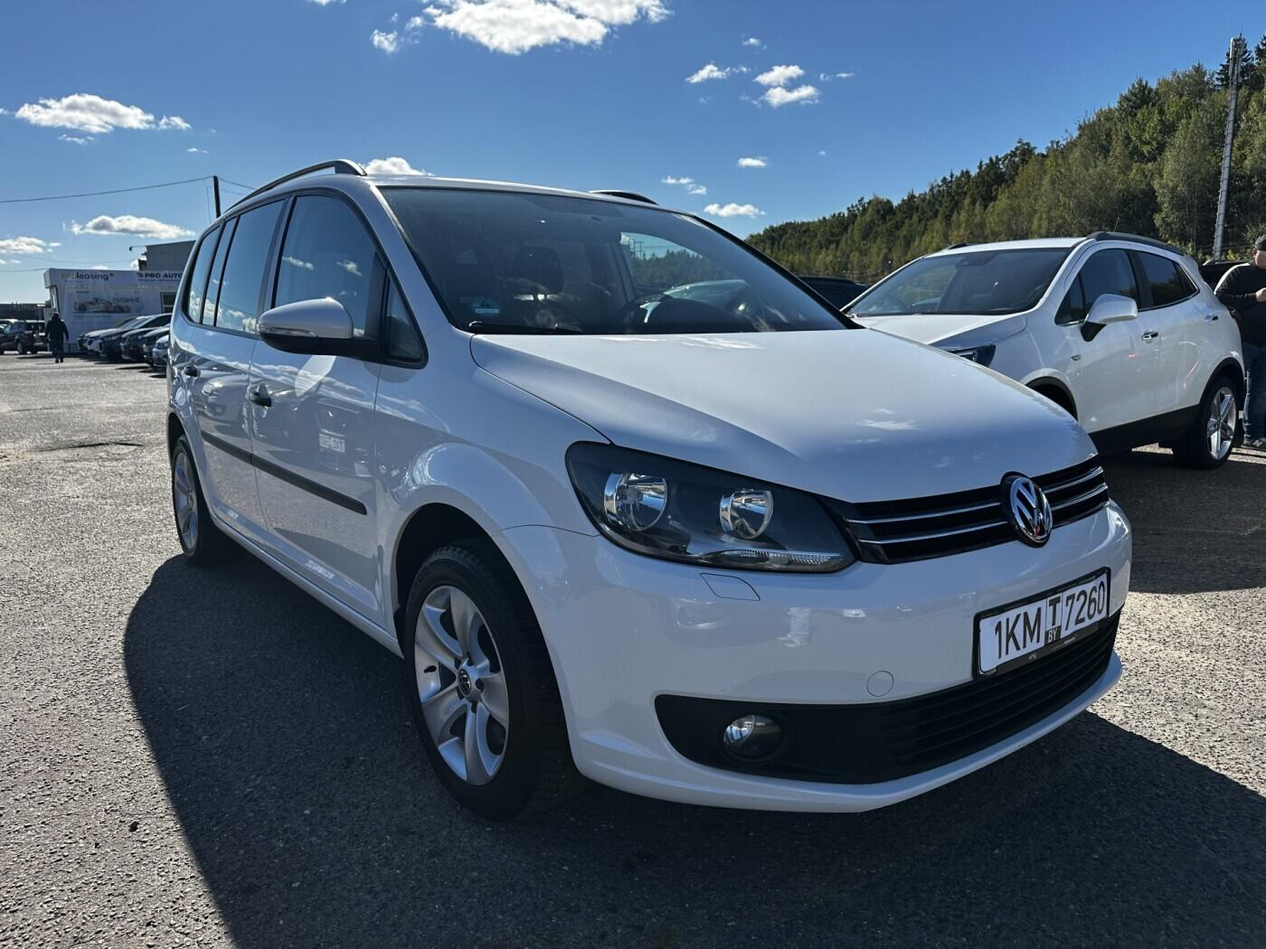Touran_2010-2015: (156, 164, 1137, 829)
